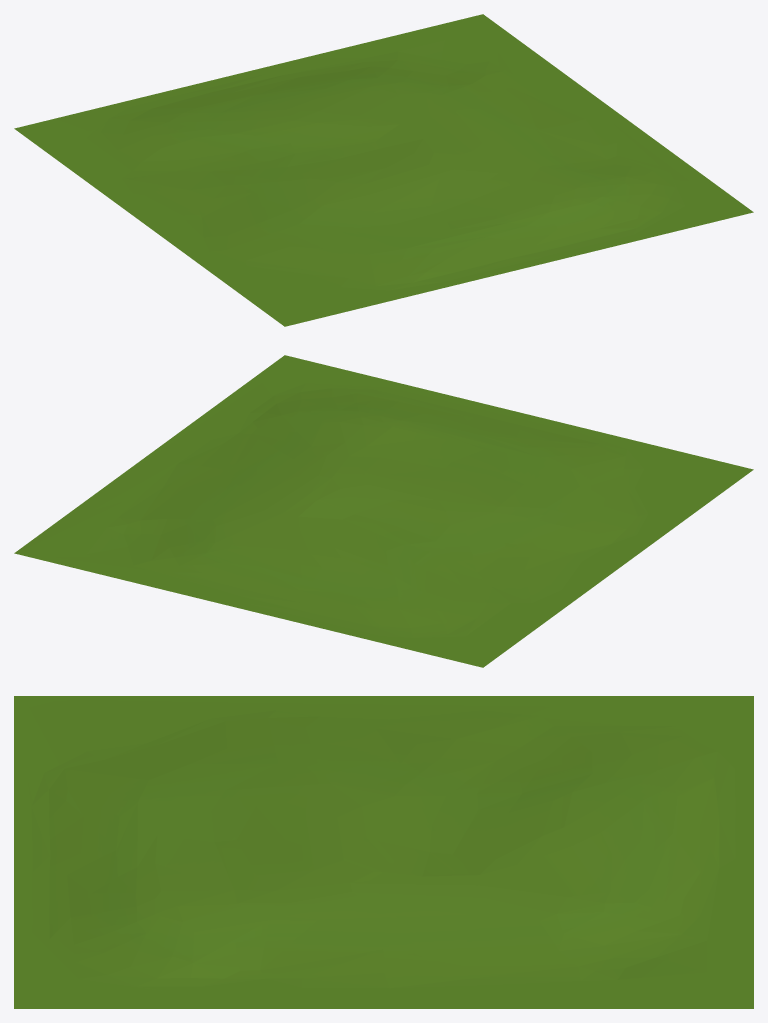
The model's file is Terrain_01.fbx.
3 renders of one model, top to bottom at view 1: azimuth 30°, elevation 25°; view 2: azimuth 150°, elevation 25°; view 3: azimuth 270°, elevation 25°, orthographic. The views are drawn at different scales.
Parts seen in each view (by area): view 1: Terrain_01; view 2: Terrain_01; view 3: Terrain_01.
Boxes of the visible parts, x1=… form: Terrain_01: x1=14, y1=14, x2=753, y2=326; Terrain_01: x1=14, y1=355, x2=753, y2=667; Terrain_01: x1=14, y1=696, x2=753, y2=1008.
Size of the model in its own units: 12800 by 247 by 12800.
